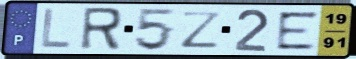2: (233, 8, 270, 53)
5: (135, 7, 180, 52)
E: (275, 10, 320, 51)
L: (39, 7, 74, 51)
R: (77, 6, 124, 52)
Z: (180, 10, 225, 49)
